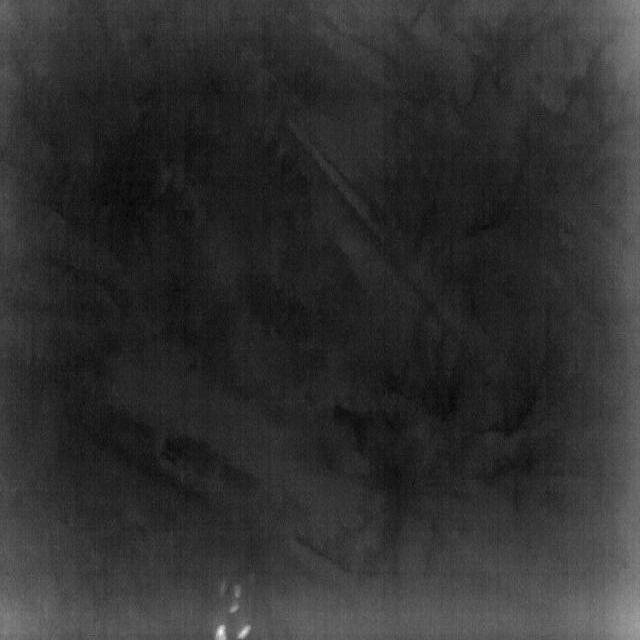deer: (236, 623, 252, 640), (214, 622, 227, 640), (228, 603, 240, 614), (234, 584, 242, 598)
